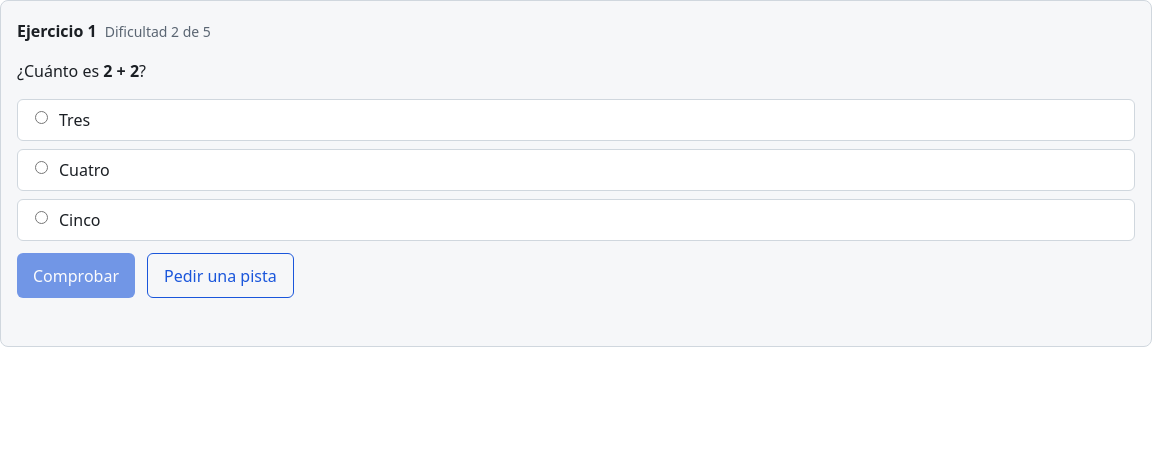
ExerciseCard › hints › reveals hints one at a time and hides the button when none are left
The width and height of the screenshot is (1152, 463).
Click the button "Pedir una pista": (220, 276) [147,253,294,298]
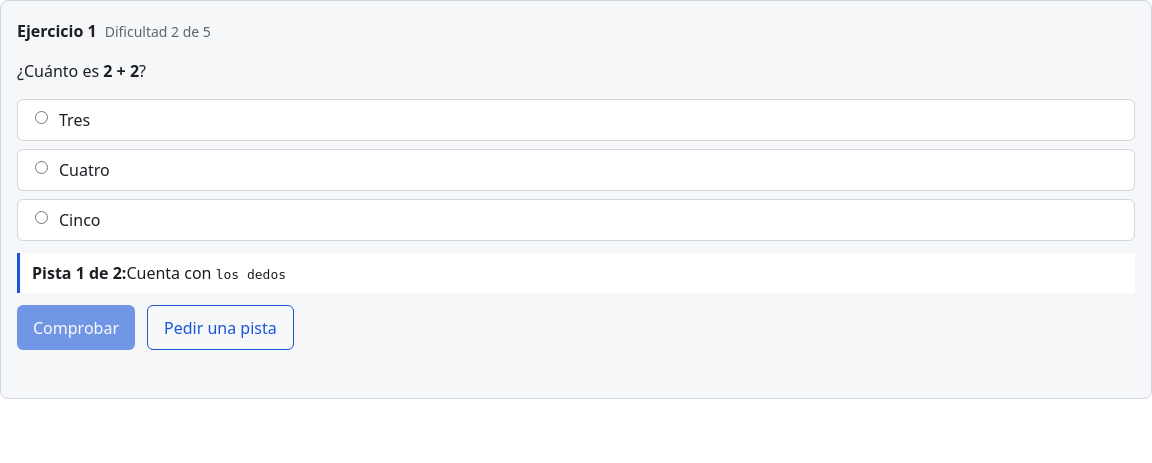
Result: the element with class "hint-text" shows "Pista 1 de 2" at [32,262,126,284]
Result: the text "los dedos" is shown at [216,267,286,282]
Click the button "Pedir una pista": (220, 328) [147,305,294,350]
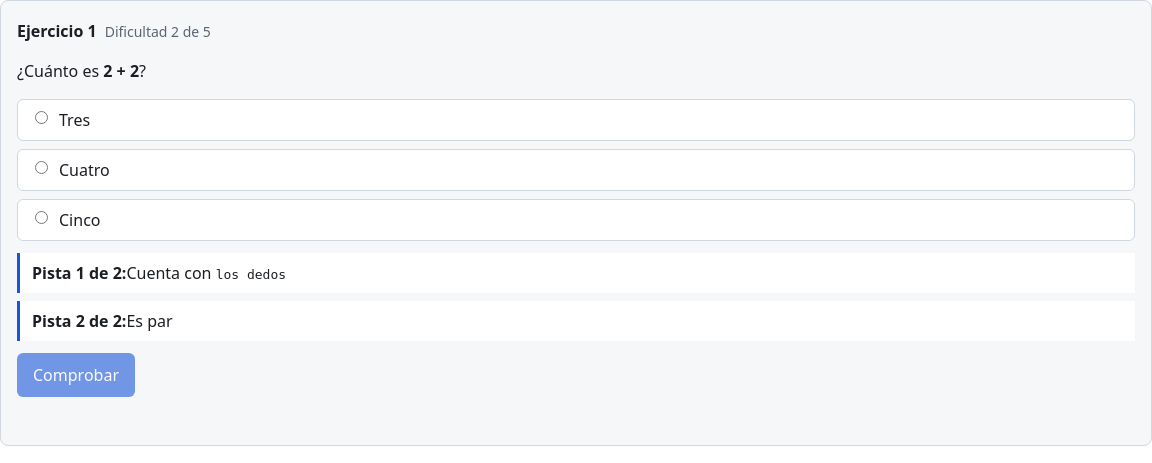
Result: the number of elements with class "hint-text" is 2 at [17,253,1135,293]; [17,301,1135,341]
